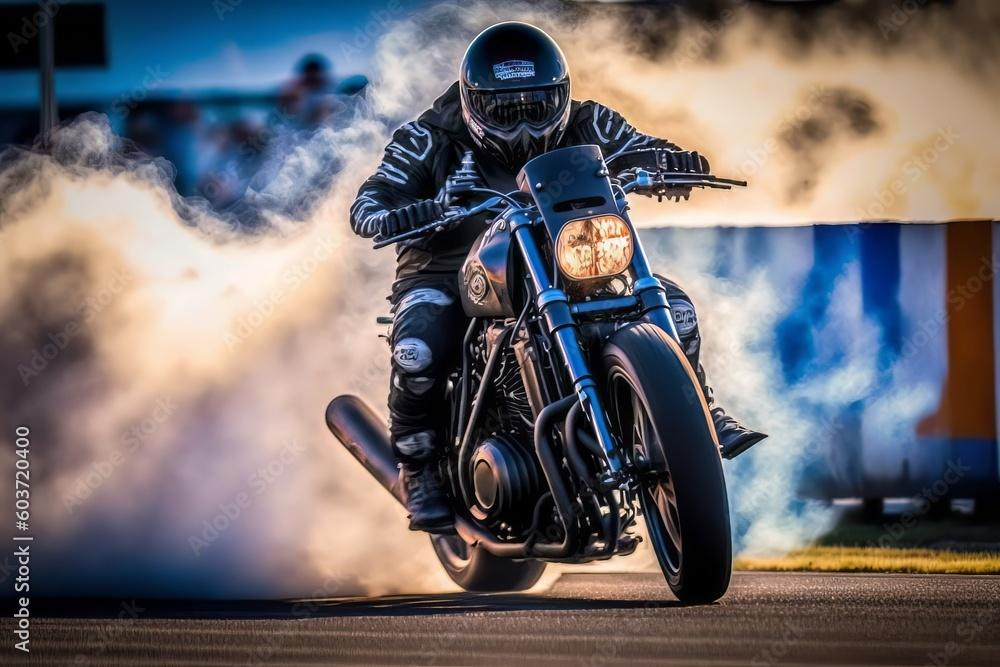helmet: (458, 20, 573, 174)
